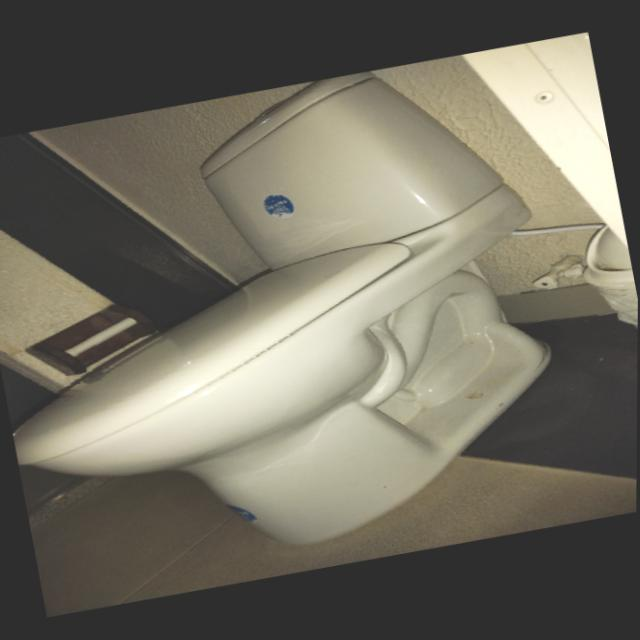toilet: (0, 39, 589, 599)
